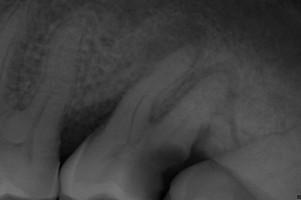Dental Caries: (150, 61, 241, 151), (145, 15, 210, 63)
